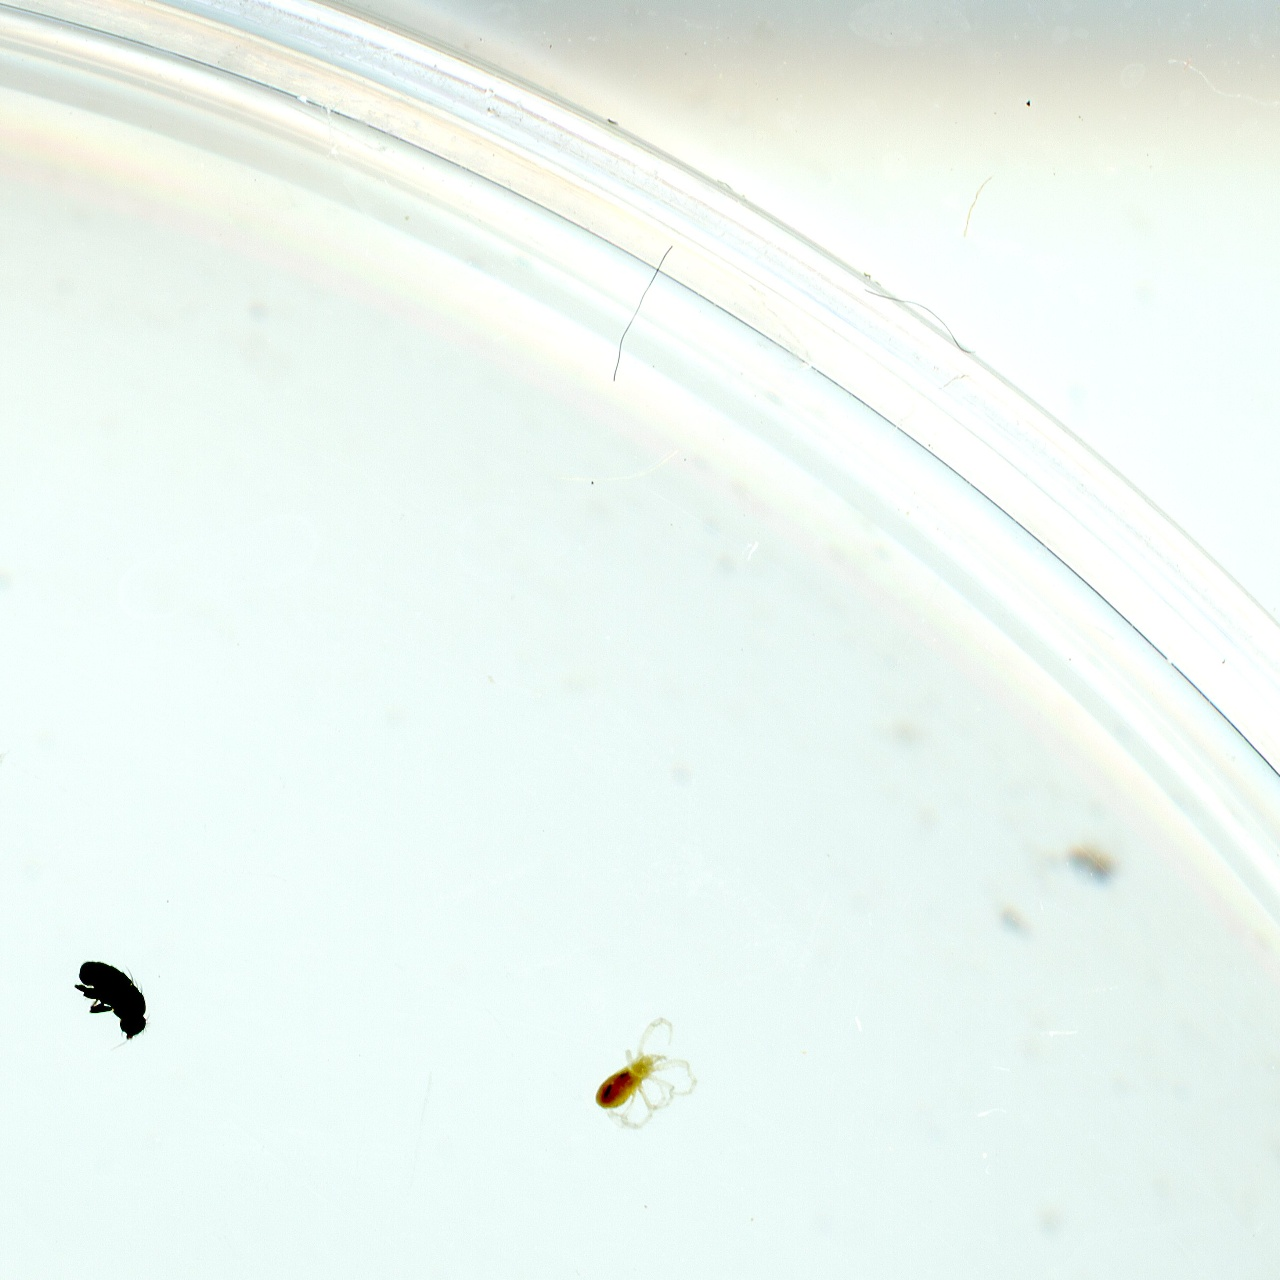arthropod: (573, 1001, 729, 1158), (69, 956, 155, 1056)
